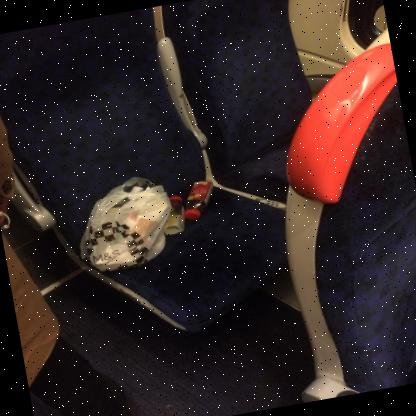Clear plastic bottle: (184, 179, 213, 220), (163, 195, 185, 236)
Plastic bottle cap: (184, 209, 200, 220)
Single-use carrier bag: (79, 176, 171, 271)
